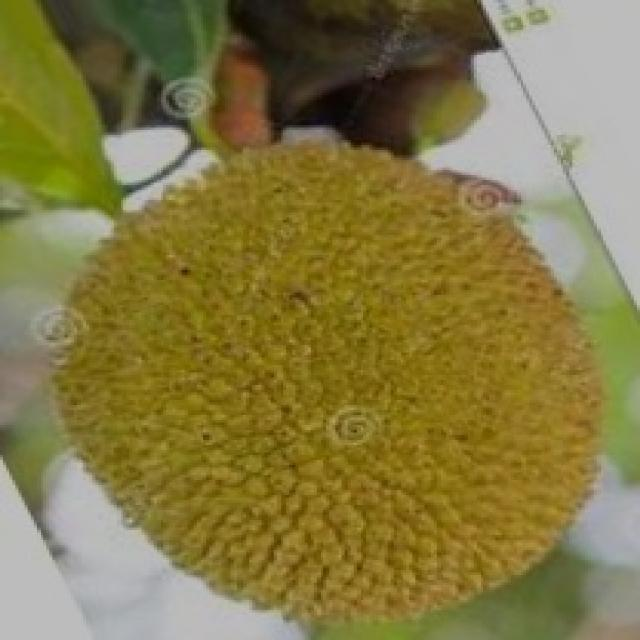Fruit: (261, 262, 640, 637)
